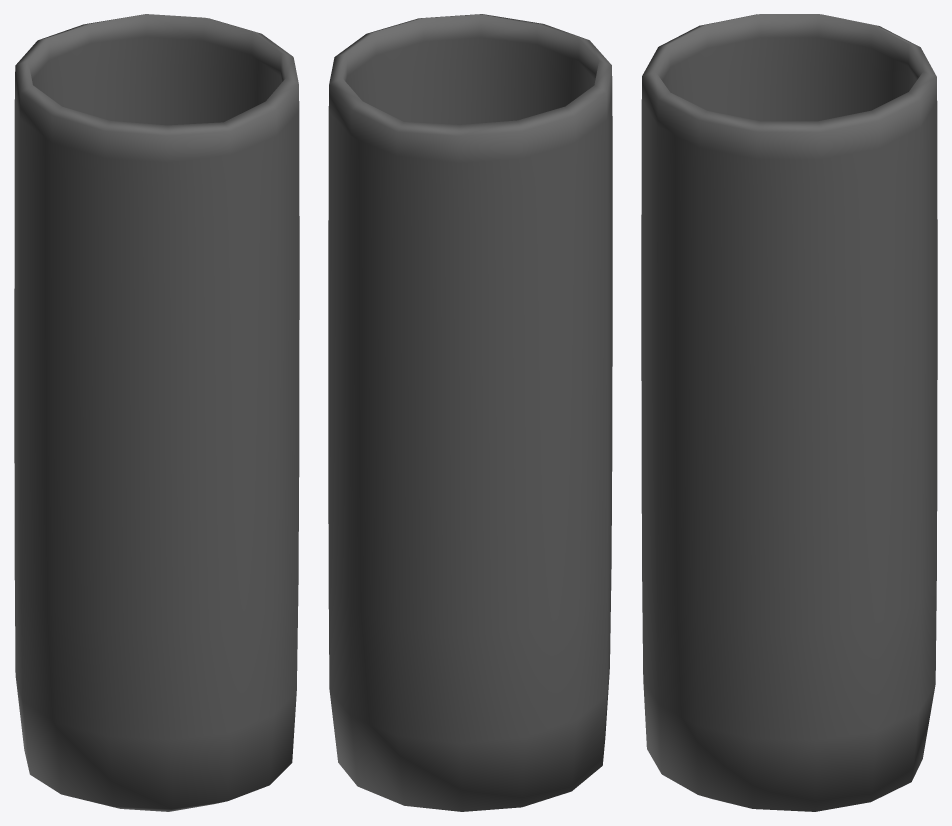
File: Glass.fbx
The picture shows the model from 3 angles, left to right: view 1: azimuth 30°, elevation 25°; view 2: azimuth 150°, elevation 25°; view 3: azimuth 270°, elevation 25°; orthographic projection.
Parts seen in each view (by area): view 1: Retopo_Glass.001; view 2: Retopo_Glass.001; view 3: Retopo_Glass.001.
Boxes of the visible parts, x1,y1,x2,y2 form: Retopo_Glass.001: (14,14,299,811); Retopo_Glass.001: (328,14,612,811); Retopo_Glass.001: (641,14,937,811).
Bounding box in the file's own units: 4.18 × 11.42 × 4.41.
1 material, 1 textured.
